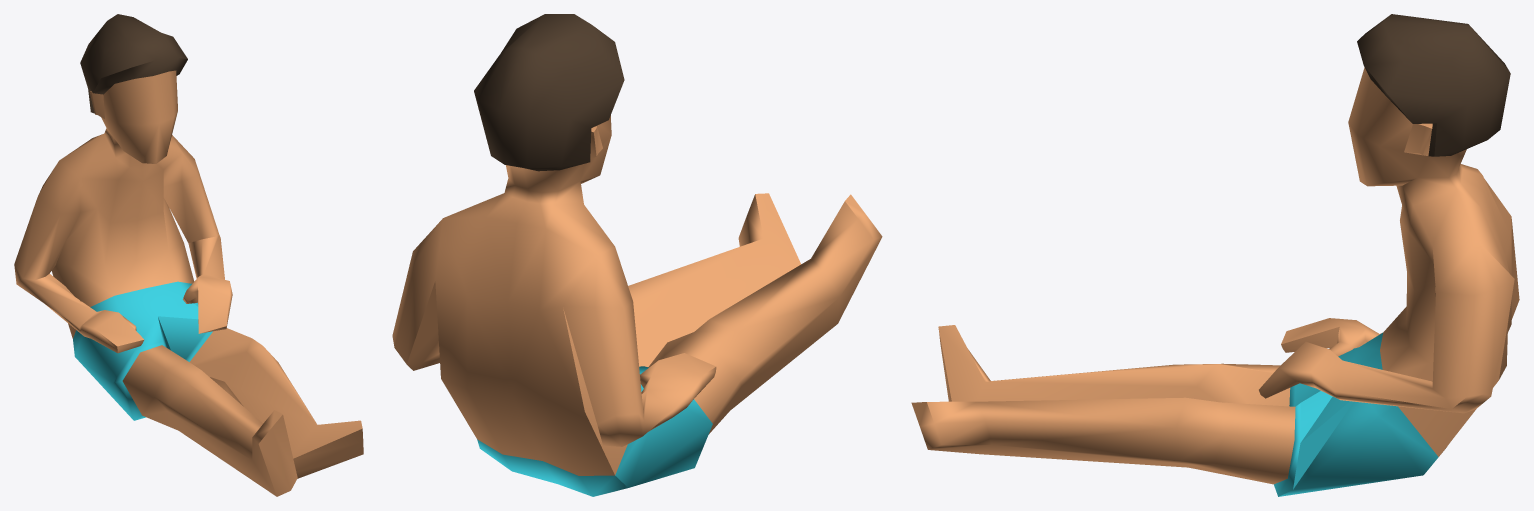
The model's file is boy-beach-sit.fbx.
3 views of the same model, side by side, from view 1: azimuth 30°, elevation 25°; view 2: azimuth 150°, elevation 25°; view 3: azimuth 270°, elevation 25° (orthographic). The views are drawn at different scales.
Parts seen in each view (by area): view 1: boy-beach_Rig1; view 2: boy-beach_Rig1; view 3: boy-beach_Rig1.
Boxes of the visible parts, x1,y1,x2,y2 form: boy-beach_Rig1: (14, 14, 363, 496); boy-beach_Rig1: (392, 14, 882, 496); boy-beach_Rig1: (911, 14, 1519, 496).
Size of the model in its own units: 34.9 by 60.64 by 73.13.
